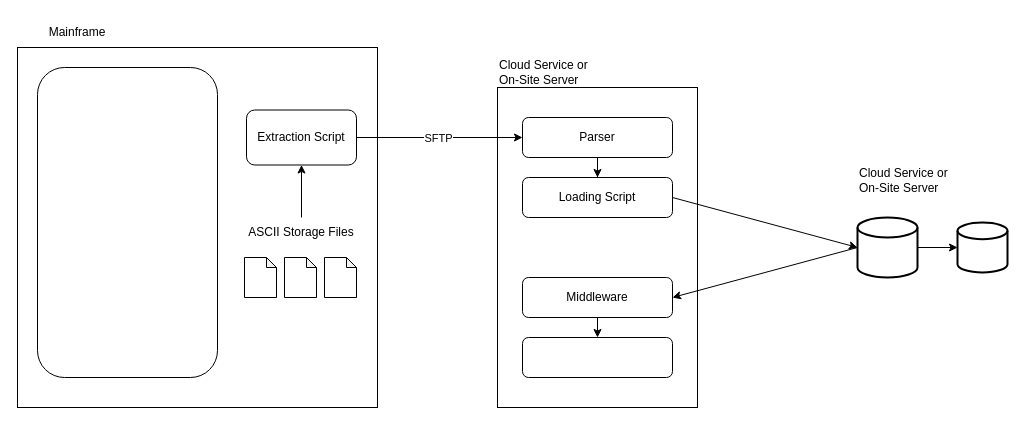
Image size: 1026x425. Some labels were removed from this diagram. Here are the shapes that lost their labels. From the top down, the centre of each, then its label:
At (127,222): "Core BBX/BBJ".
At (597,357): "API Gateway".
